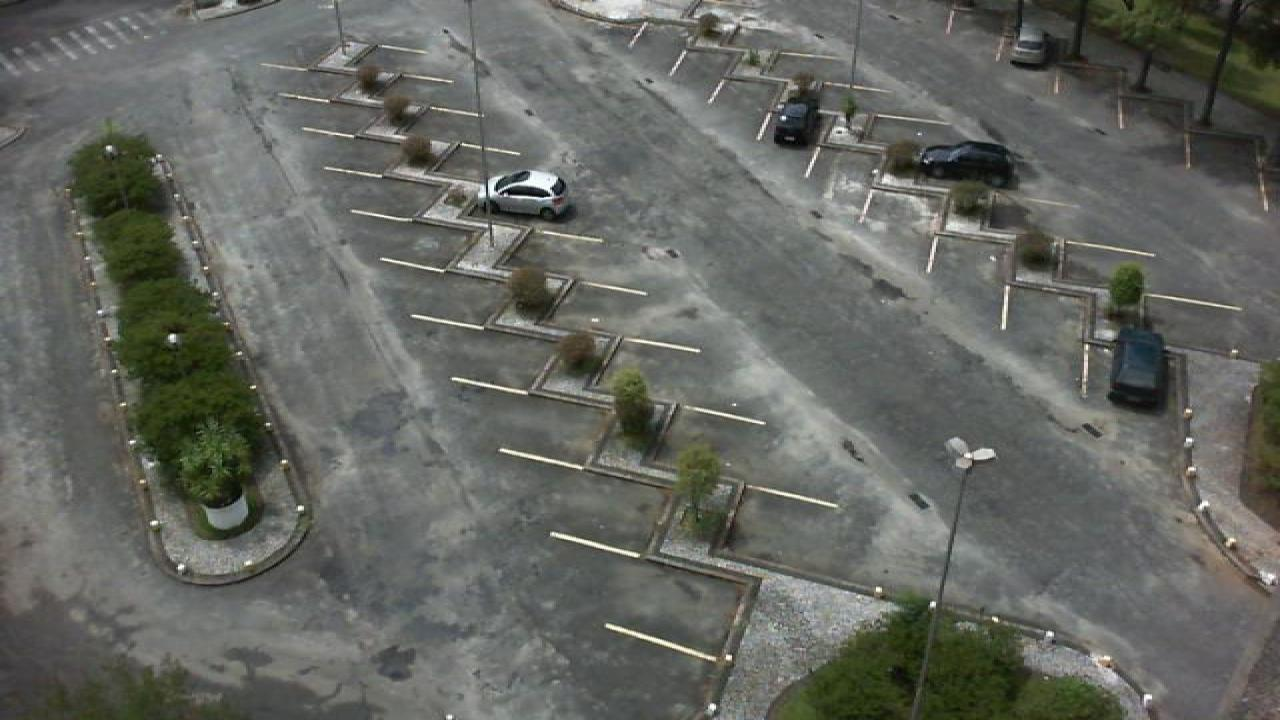Car: (1108, 324, 1170, 410), (482, 169, 574, 219), (916, 140, 1016, 185), (772, 99, 816, 149), (1006, 25, 1050, 66)
